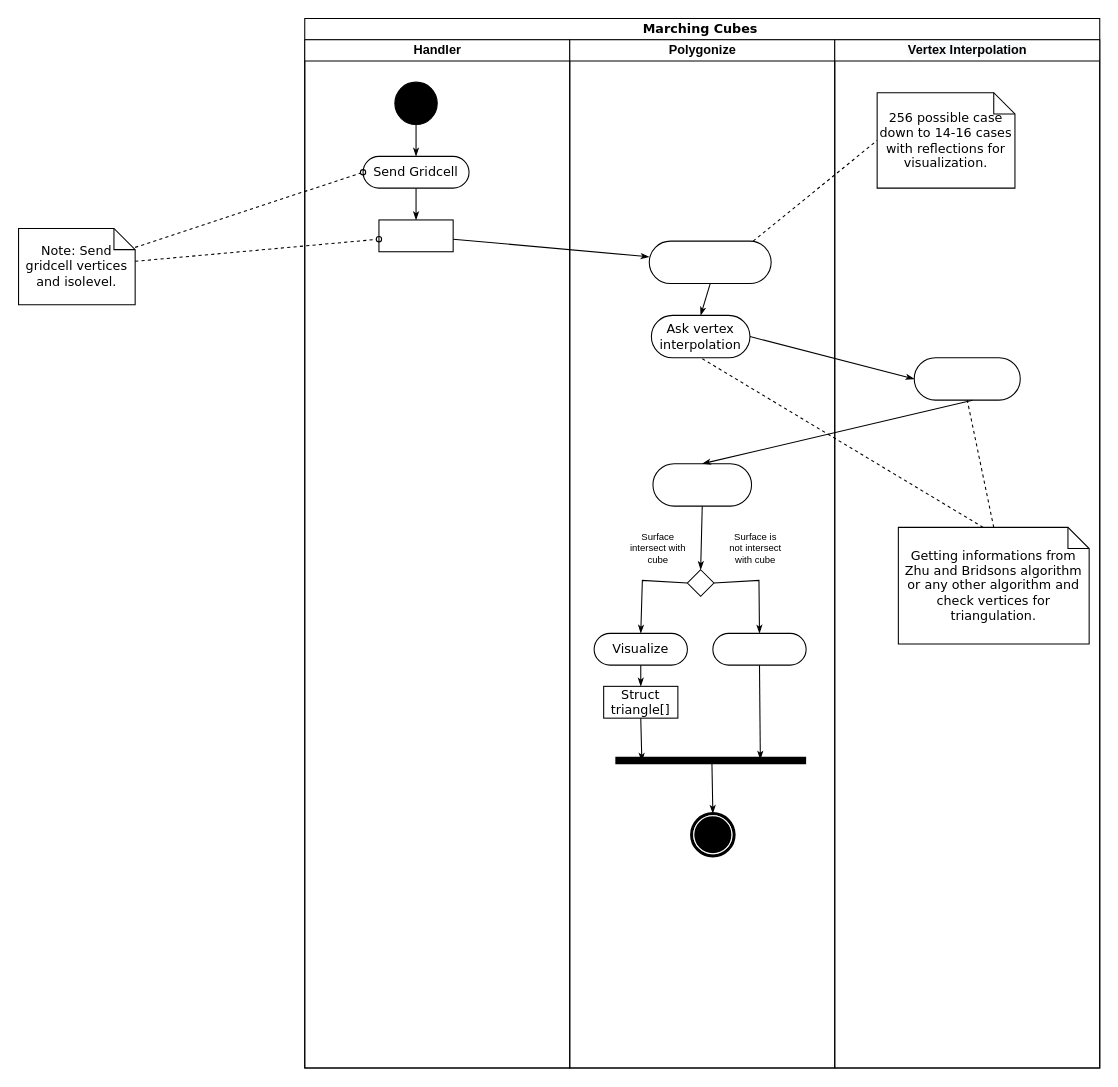
Some shapes in this 1118 by 1087 pixel diagram are drawn without their labels. Each missing label, with the centre of its shape:
Calculate vertex interpolation: (x=966, y=378)
Consider Rendering Cases: (x=709, y=262)
Get vertex interpolation: (x=702, y=484)
return: (x=759, y=648)
Struct Gridcell[]: (x=415, y=235)
